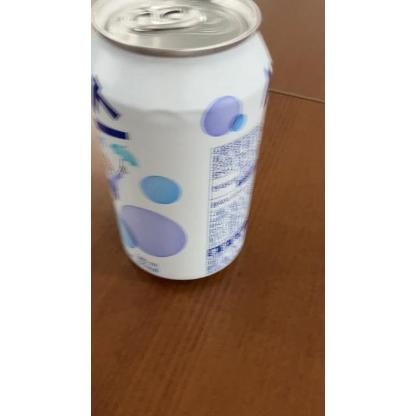Can: (92, 0, 276, 282)
